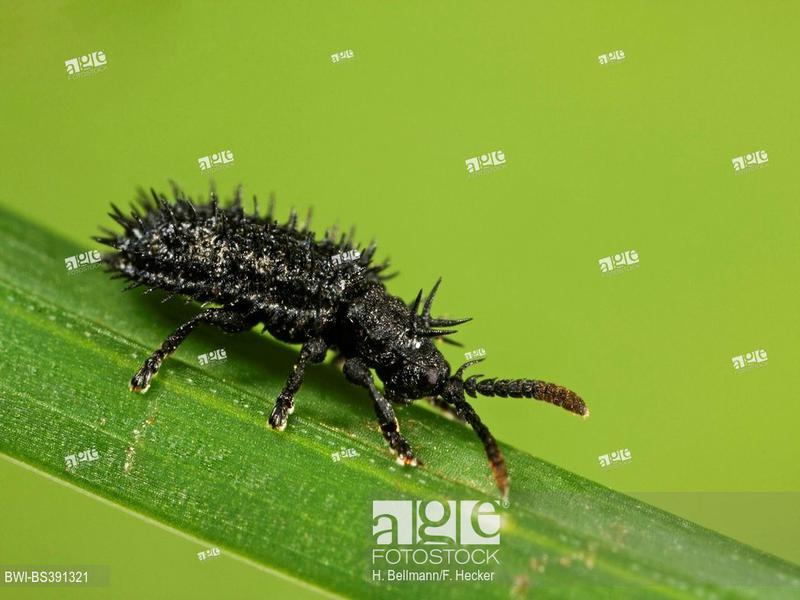Spiny_beetle: (64, 159, 570, 453)
